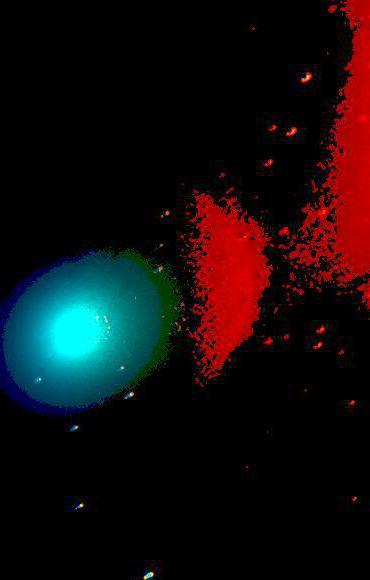star: (125, 284, 155, 314)
